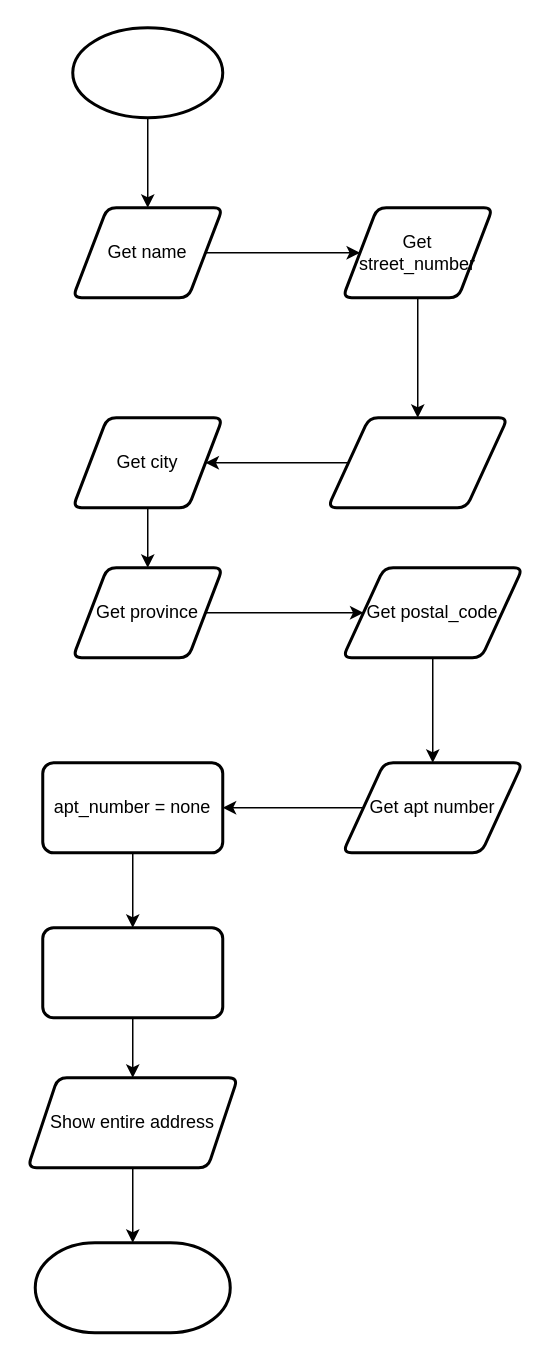
Image size: 549x1359. Some labels were removed from this diagram. Here are the shapes that lost their labels. From the top down, the centre of each, then its label:
the point at 147,72: Start
the point at 417,462: Get street_name
the point at 132,972: full address = (entire address in correct format)
the point at 132,1287: Stop
